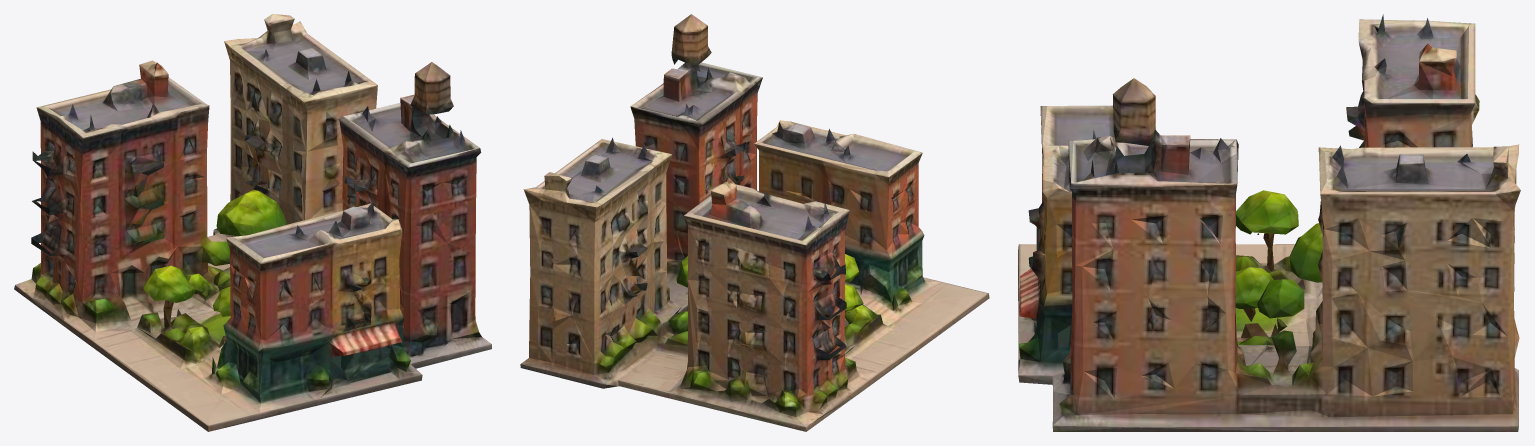
Rendered from block-walkups-a.far.glb.
3 views of the same model, side by side, from view 1: azimuth 30°, elevation 25°; view 2: azimuth 150°, elevation 25°; view 3: azimuth 270°, elevation 25° (orthographic). The views are drawn at different scales.
Visible parts, largest first — view 1: low; view 2: low; view 3: low.
Boxes of the visible parts, box(x1,y1,x2,y2) form: low: box(14, 14, 491, 431); low: box(520, 14, 989, 431); low: box(1018, 14, 1520, 431).
Bounding box in the file's own units: 0.8403 × 0.7341 × 0.9689.
Materials: 1 (1 with a texture image).
